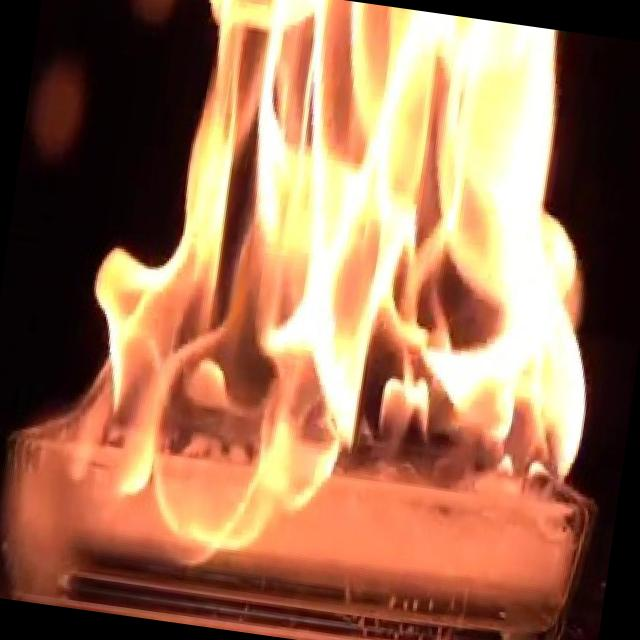Smoke: (52, 0, 640, 616)
